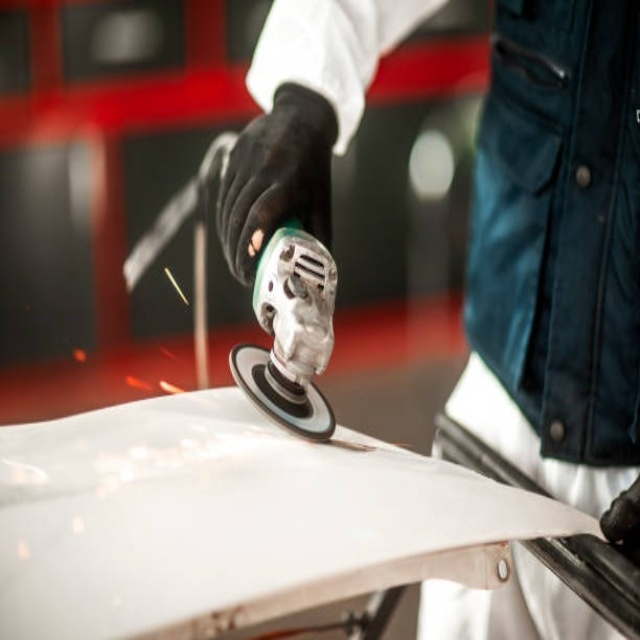Guantes: (210, 84, 337, 296), (601, 461, 639, 561)
